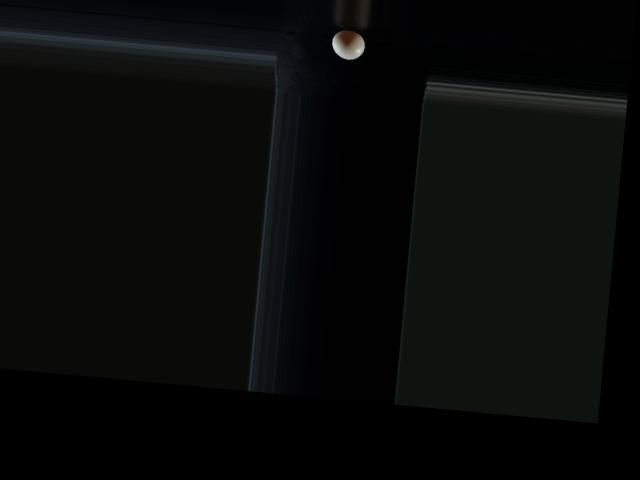egg: (330, 28, 365, 61)
